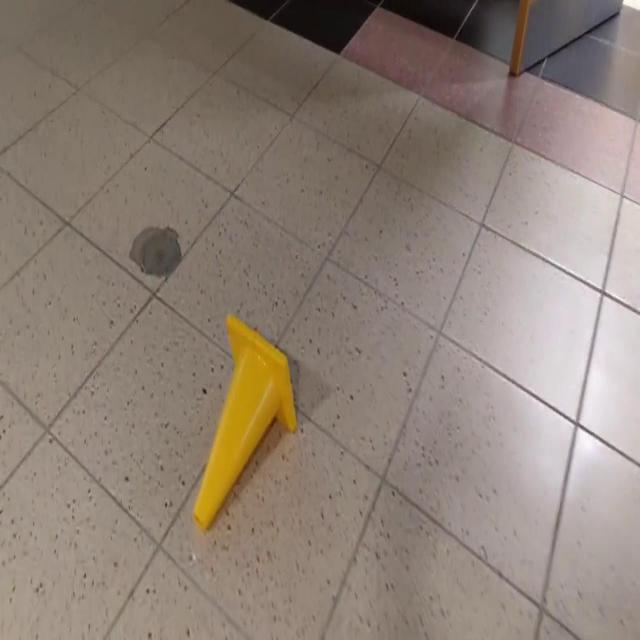frc_cone: (191, 311, 297, 532)
